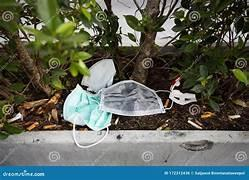Mask: (63, 85, 111, 147), (100, 80, 164, 115), (63, 85, 111, 130), (81, 59, 115, 91), (169, 77, 196, 104), (169, 90, 196, 104)
